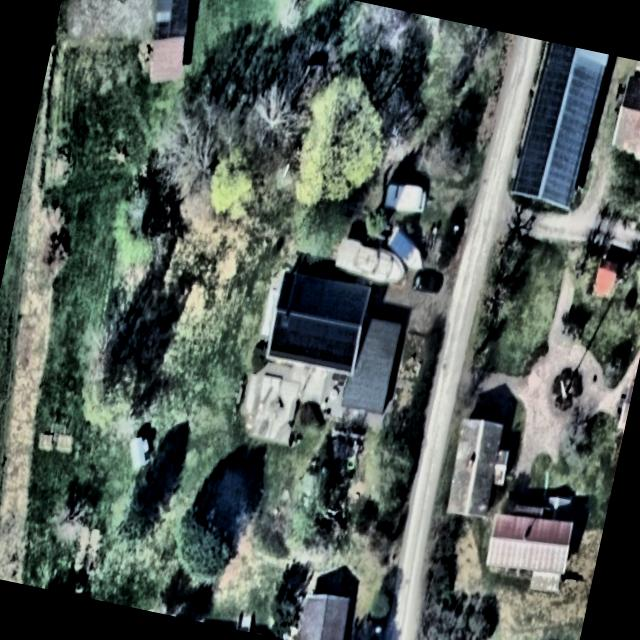roof_pv: (268, 308, 361, 372)
